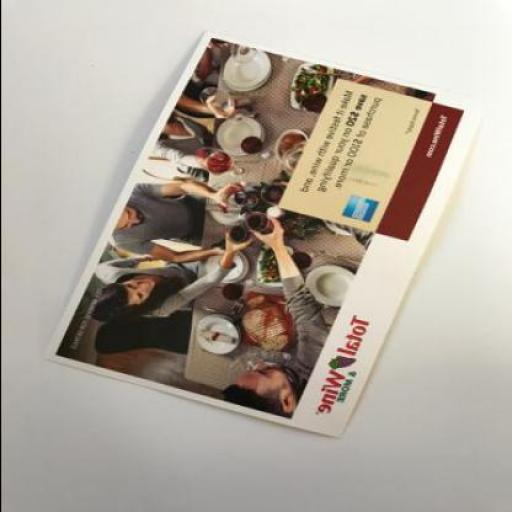paper: (40, 30, 473, 438)
